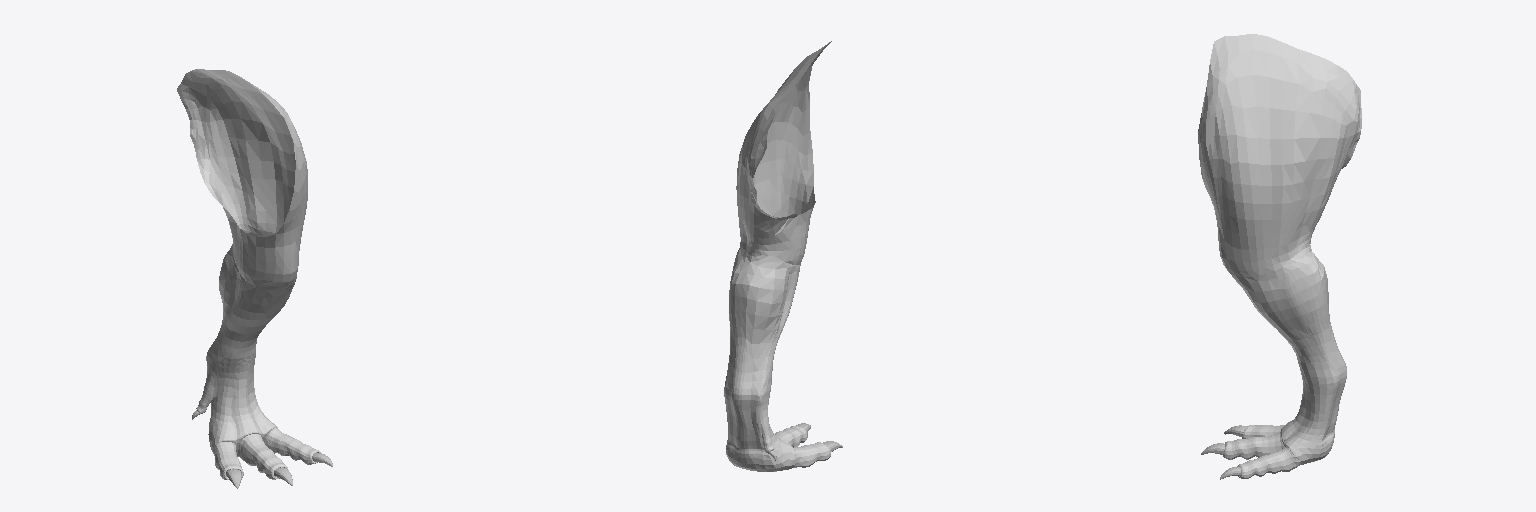
The model's file is PataIzqTRex.obj.
3 renders of one model, left to right at view 1: azimuth 30°, elevation 25°; view 2: azimuth 150°, elevation 25°; view 3: azimuth 270°, elevation 25°, orthographic.
Parts seen in each view (by area): view 1: PataIzqTRex; view 2: PataIzqTRex; view 3: PataIzqTRex.
Part boxes in pixels (x1,y1,x2,y2): PataIzqTRex: (177,69,332,488); PataIzqTRex: (724,41,842,471); PataIzqTRex: (1198,34,1361,479).
Size of the model in its own units: 82.64 by 334 by 122.